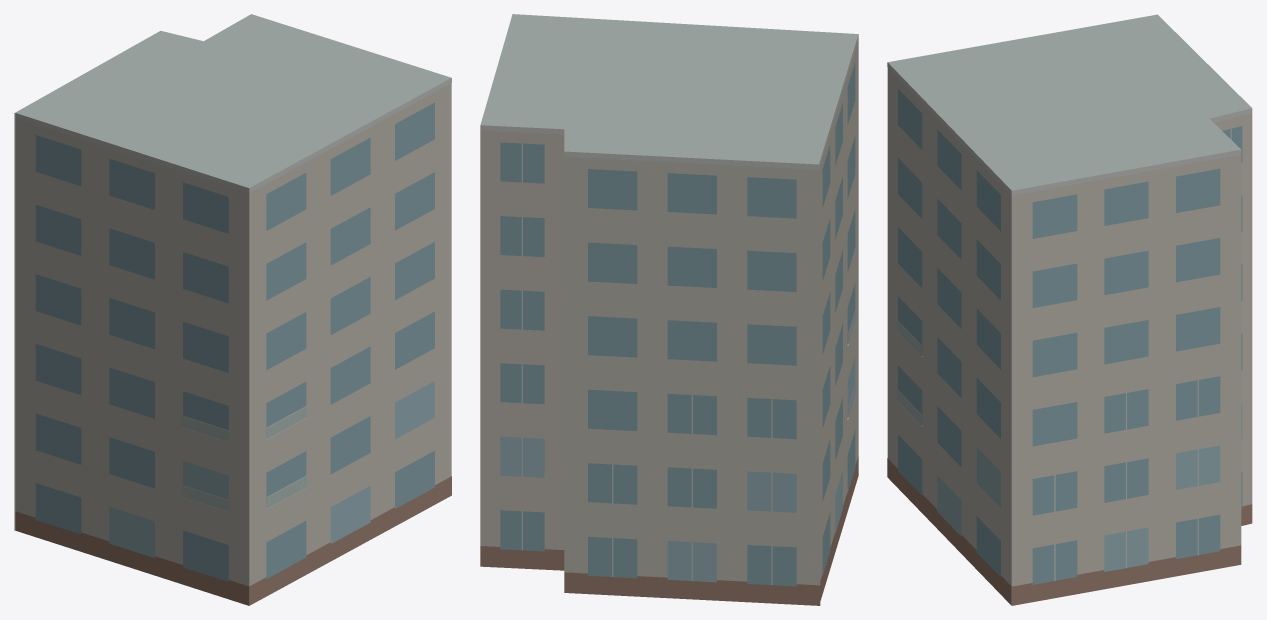
File: survey-upis-32864547.glb
The picture shows the model from 3 angles, left to right: view 1: azimuth 30°, elevation 25°; view 2: azimuth 150°, elevation 25°; view 3: azimuth 270°, elevation 25°; orthographic projection. The views are drawn at different scales.
Parts seen in each view (by area): view 1: survey-upis-32864547.tmp; view 2: survey-upis-32864547.tmp; view 3: survey-upis-32864547.tmp.
Boxes of the visible parts, left/top/right/bottom form: survey-upis-32864547.tmp: left=14, top=14, right=451, bottom=605; survey-upis-32864547.tmp: left=480, top=14, right=858, bottom=605; survey-upis-32864547.tmp: left=887, top=14, right=1252, bottom=605.
Bounding box in the file's own units: 18.48 × 20.23 × 16.12.
